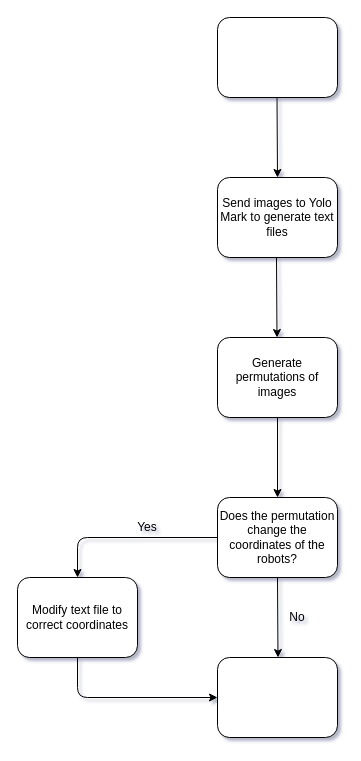
Image size: 361x761. Some labels were removed from this diagram. Here are the shapes that lost their labels. From the top down, the box of each, then its label:
(216, 16, 338, 98): Capture images of robots
(216, 656, 338, 738): Send images and text files to Darknet for training
